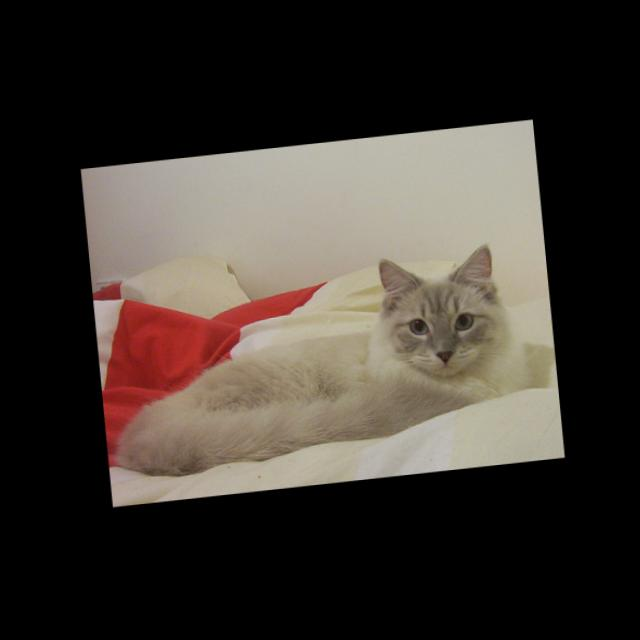animals: (382, 247, 496, 368)
